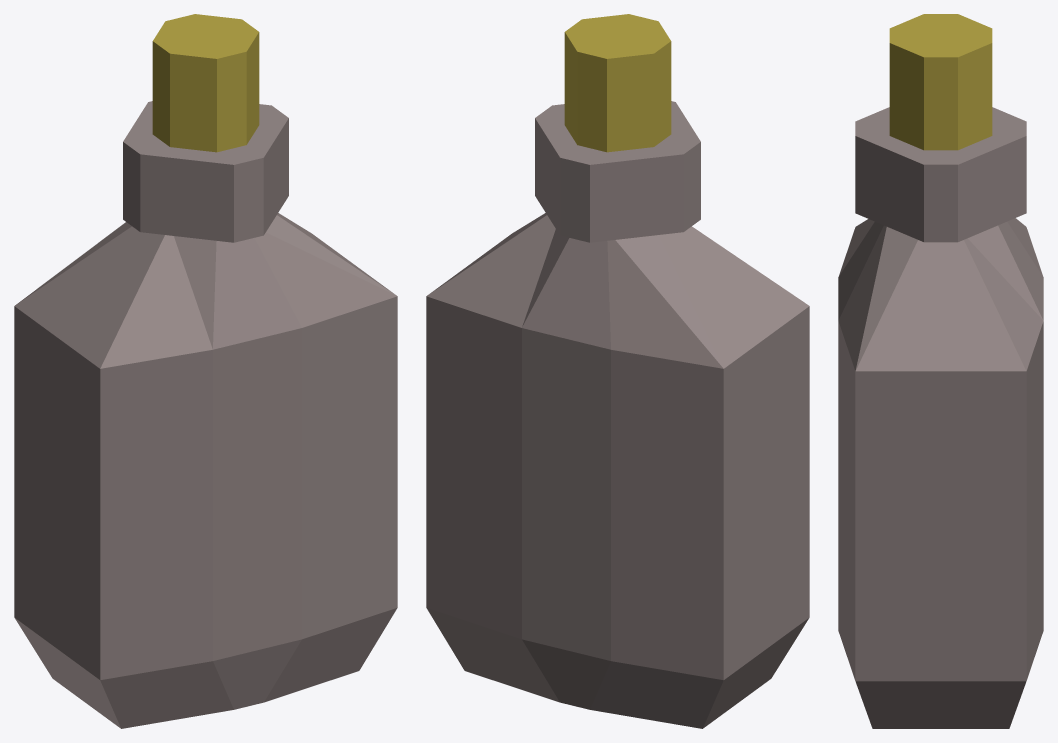
The model's file is inv_yellow_dye.obj.
The picture shows the model from 3 angles, left to right: view 1: azimuth 30°, elevation 25°; view 2: azimuth 150°, elevation 25°; view 3: azimuth 270°, elevation 25°; orthographic projection.
Bounding box in the file's own units: 0.1562 × 0.3203 × 0.0938.
